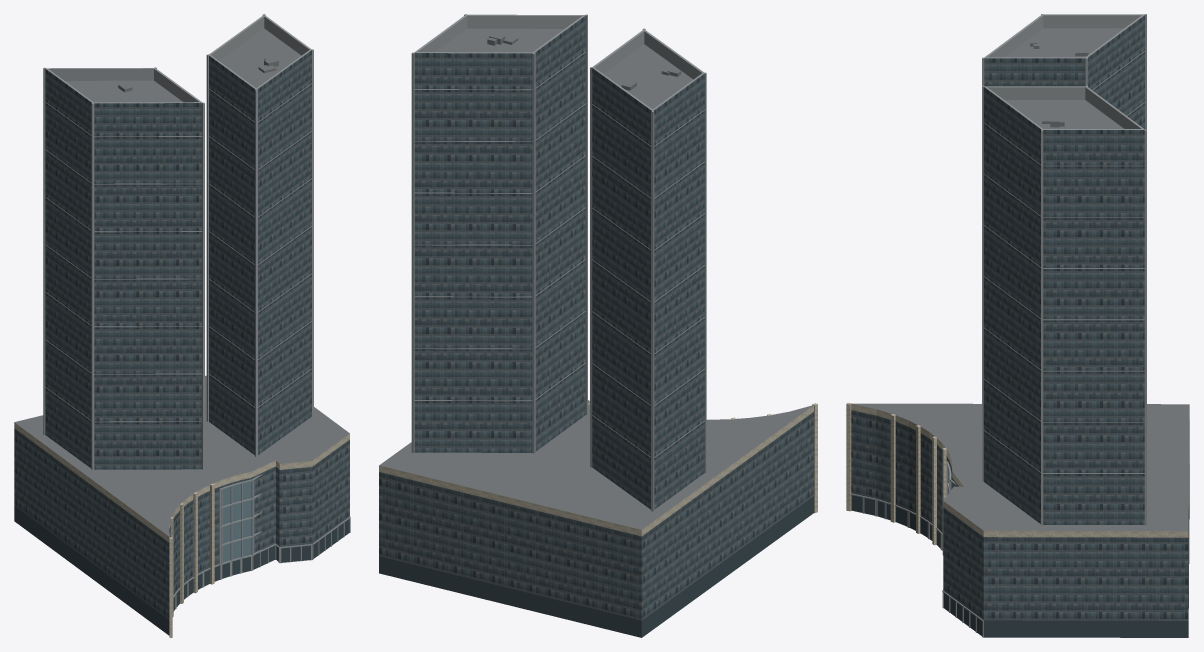
File: deutsche_bank_center.glb
3 views of the same model, side by side, from view 1: azimuth 30°, elevation 25°; view 2: azimuth 150°, elevation 25°; view 3: azimuth 270°, elevation 25° (orthographic). The views are drawn at different scales.
Visible parts, largest first — view 1: deutsche_bank_center; view 2: deutsche_bank_center; view 3: deutsche_bank_center.
Boxes of the visible parts, x1,y1,x2,y2 form: deutsche_bank_center: [14, 14, 350, 637]; deutsche_bank_center: [379, 14, 817, 637]; deutsche_bank_center: [846, 14, 1189, 637].
Bounding box in the file's own units: 129 × 235 × 146.
Materials: 3 (3 with a texture image).
